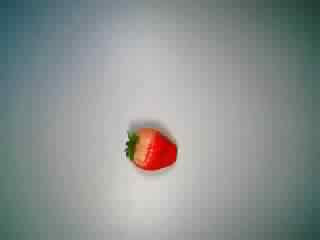strawberry: (119, 113, 185, 175)
